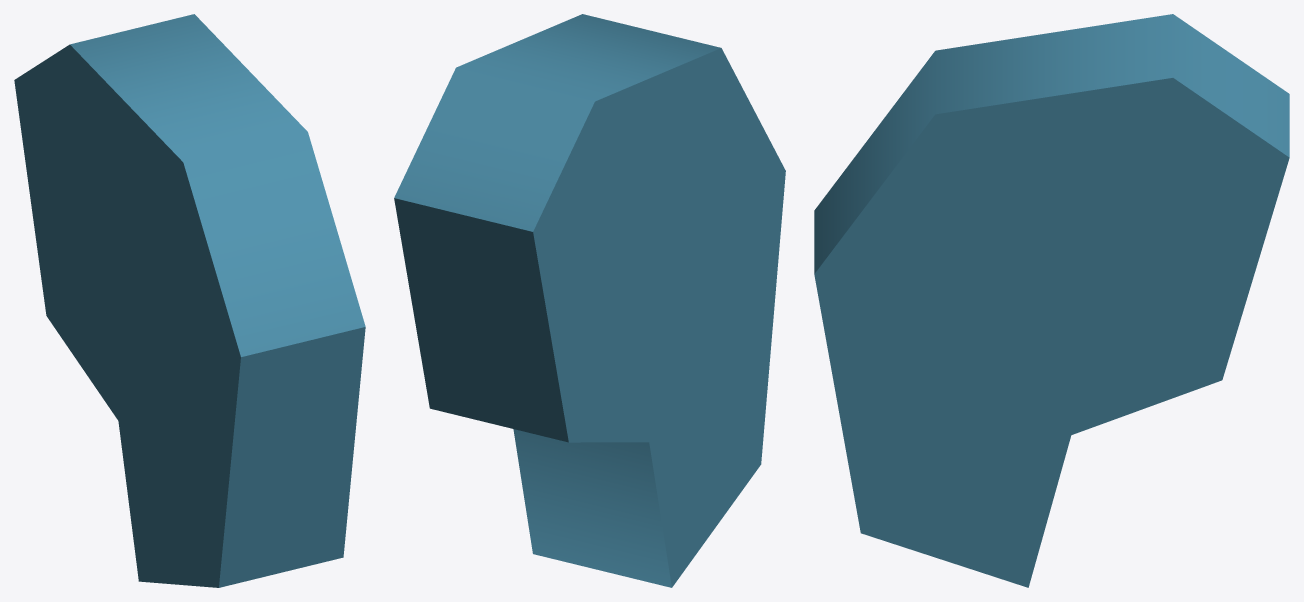
Rendered from NexusC_Trigger_19.fbx.
The picture shows the model from 3 angles, left to right: view 1: azimuth 30°, elevation 25°; view 2: azimuth 150°, elevation 25°; view 3: azimuth 270°, elevation 25°; orthographic projection. The views are drawn at different scales.
Visible parts, largest first — view 1: polySurface28; view 2: polySurface28; view 3: polySurface28.
Part boxes in pixels (x1,y1,x2,y2): polySurface28: [14, 14, 365, 587]; polySurface28: [394, 14, 785, 587]; polySurface28: [814, 14, 1289, 587].
Size of the model in its own units: 14.7 by 54.82 by 46.29.
